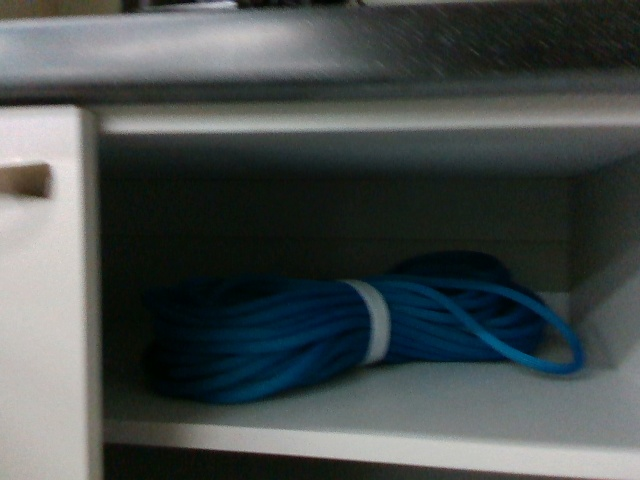rope: (184, 267, 587, 404)
